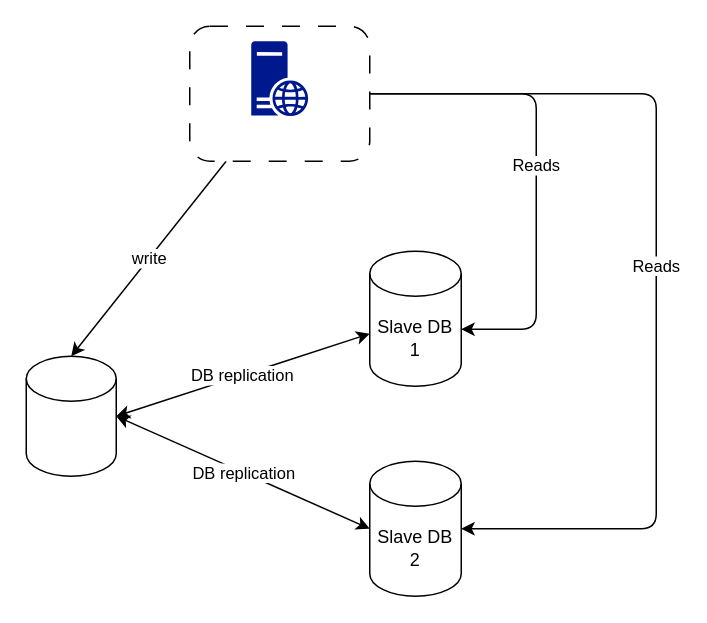
This 707x623 diagram has some shape labels left out. The shapes that lost their labels are listed below. From the top down, each one's centre as x and y in pixels, then its label:
At (279,78): "Web servers".
At (70,415): "Master database".
